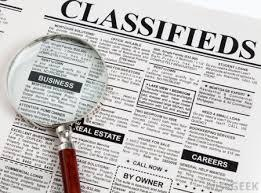Printing industry: (3, 1, 261, 193)
